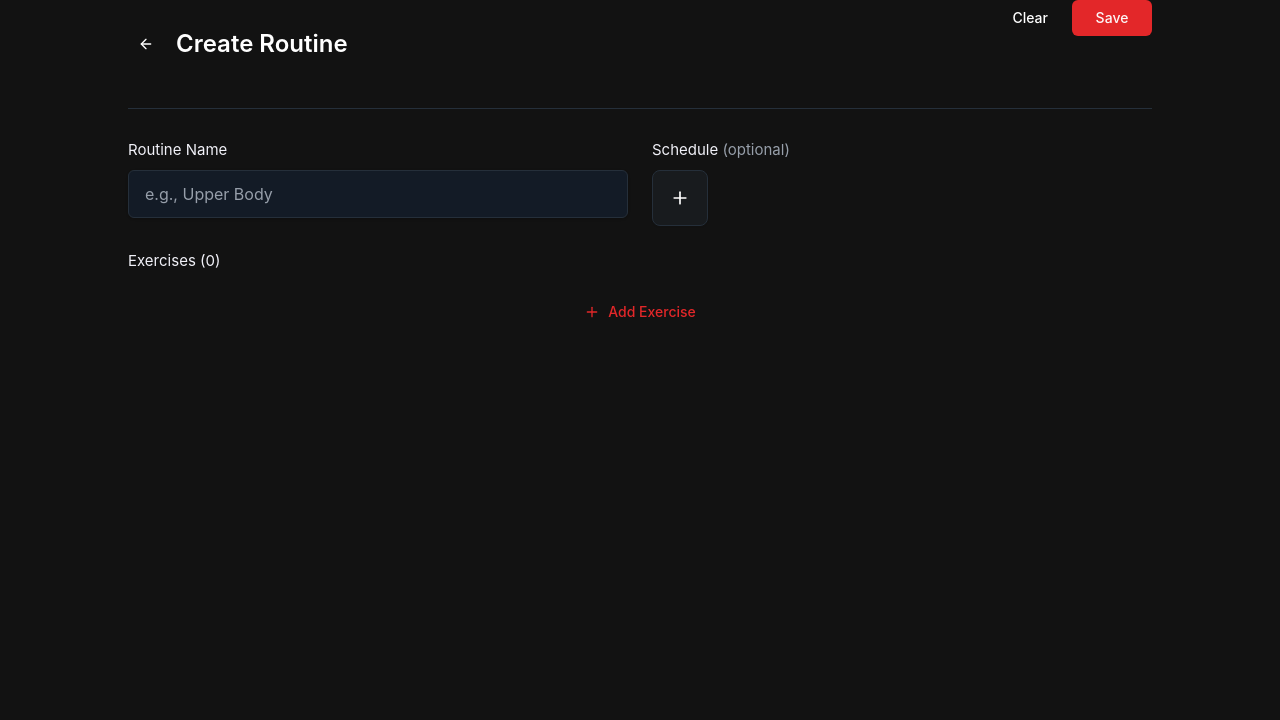
Test: allows a custom exercise name to be edited
Click the button "Add Exercise" at (640, 312), box [128,284,1152,340]
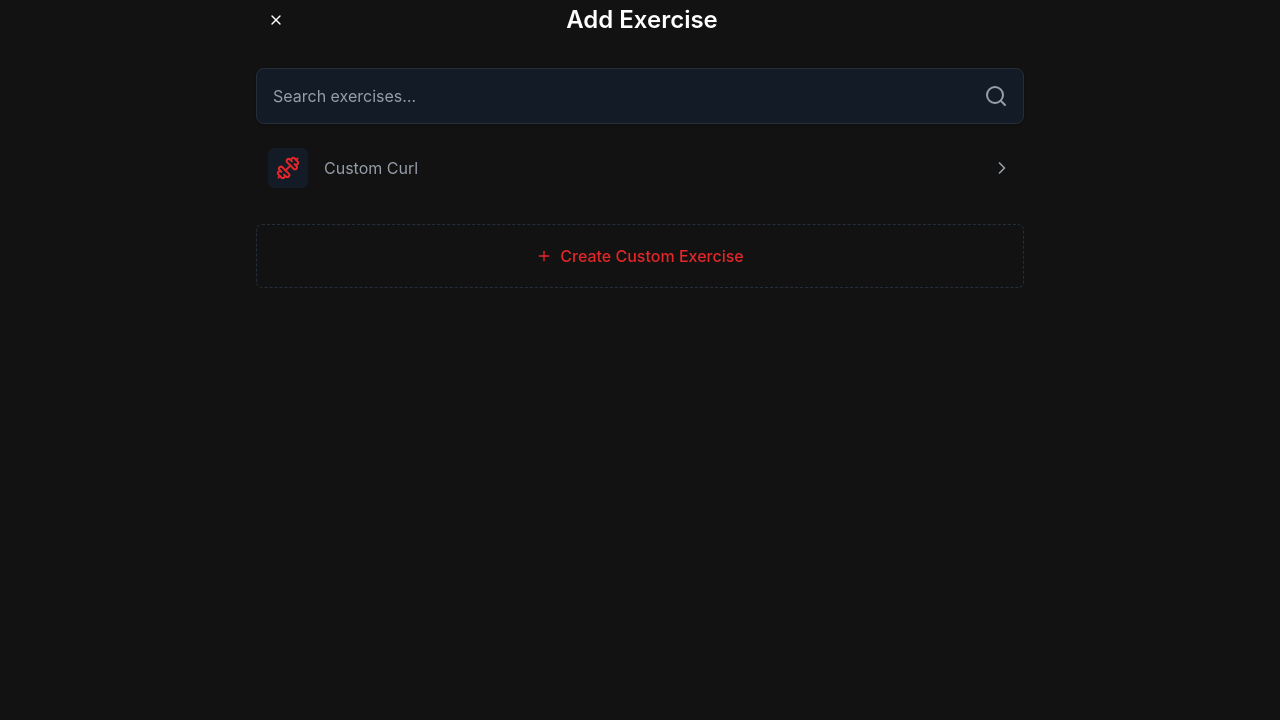
Click the link "Custom Curl" at (288, 168), box [256,140,1024,196]
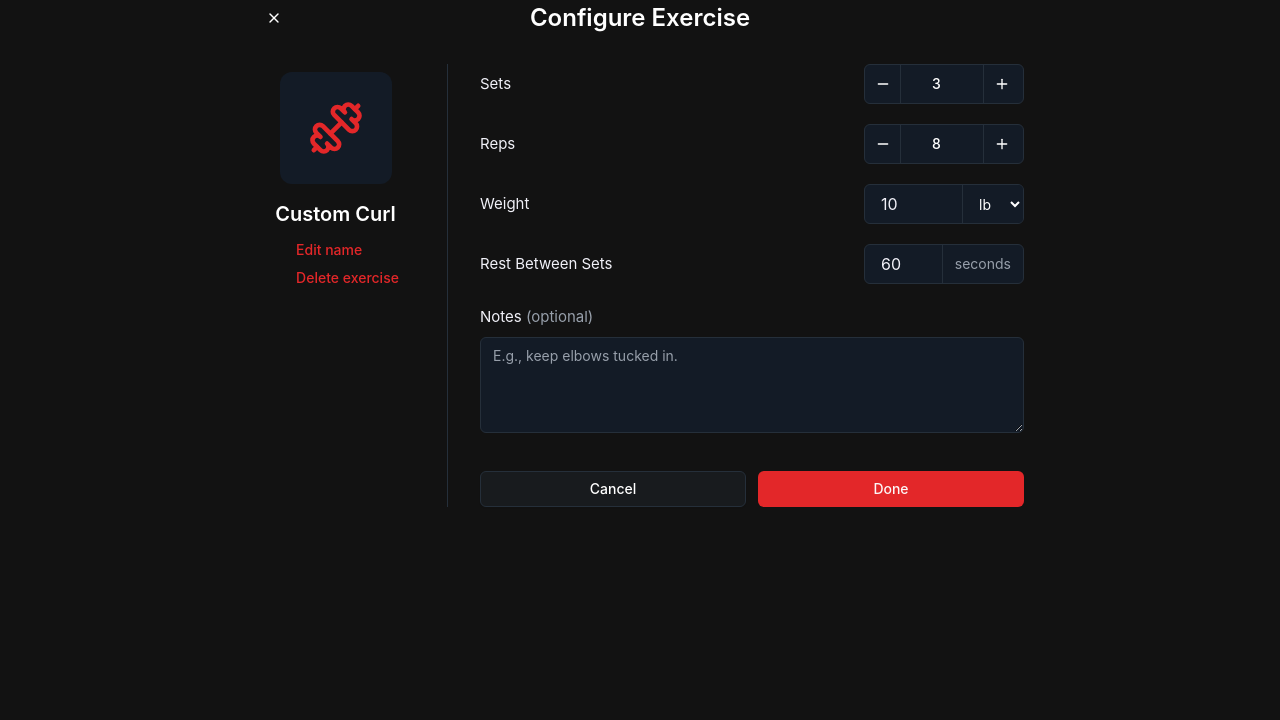
Click the button "Edit name" at (329, 250), box [296,240,362,260]
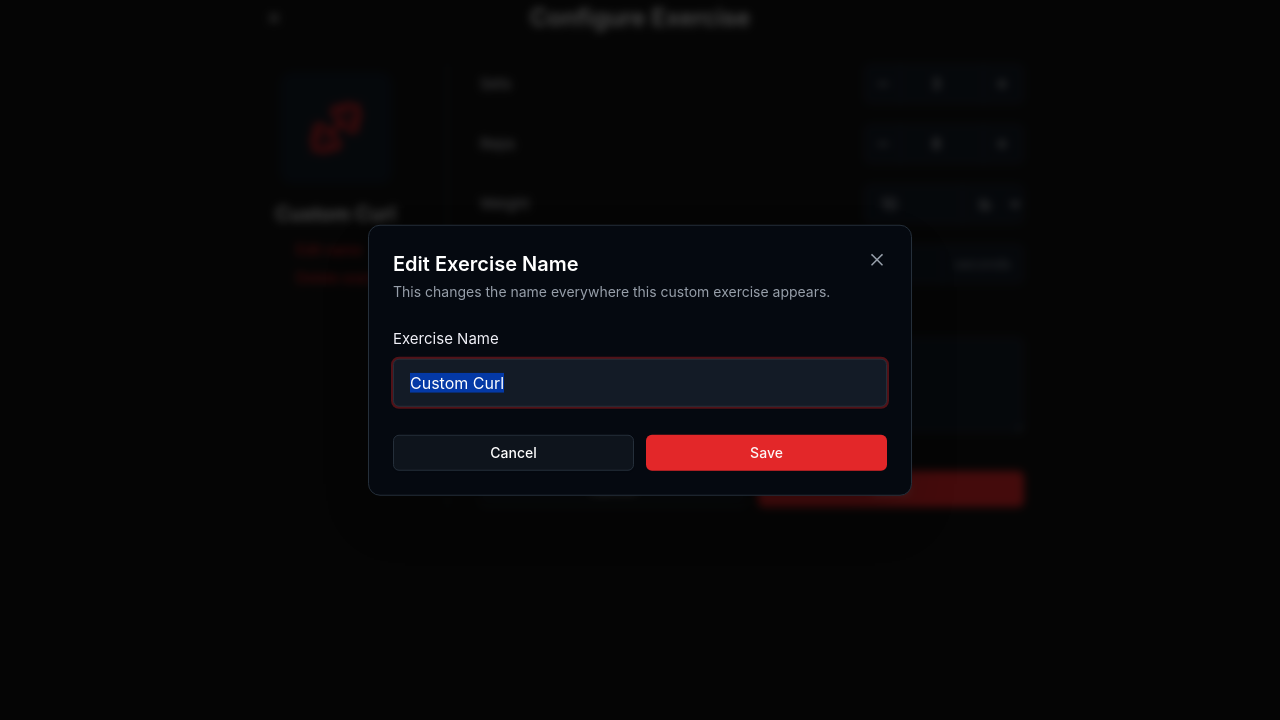
Replace the text in the field labelled "Exercise Name" with "Renamed Curl" at (640, 382), box [393,358,887,406]
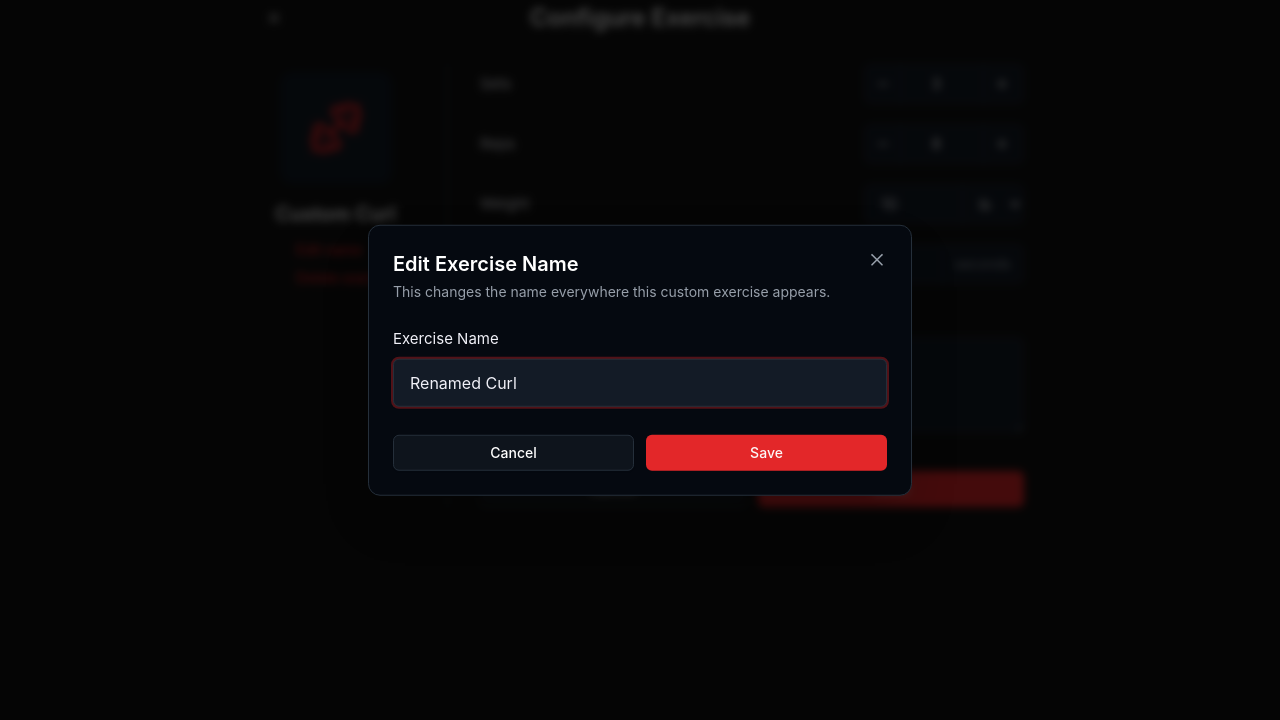
Click the button "Save" at (766, 452), box [646,434,887,470]
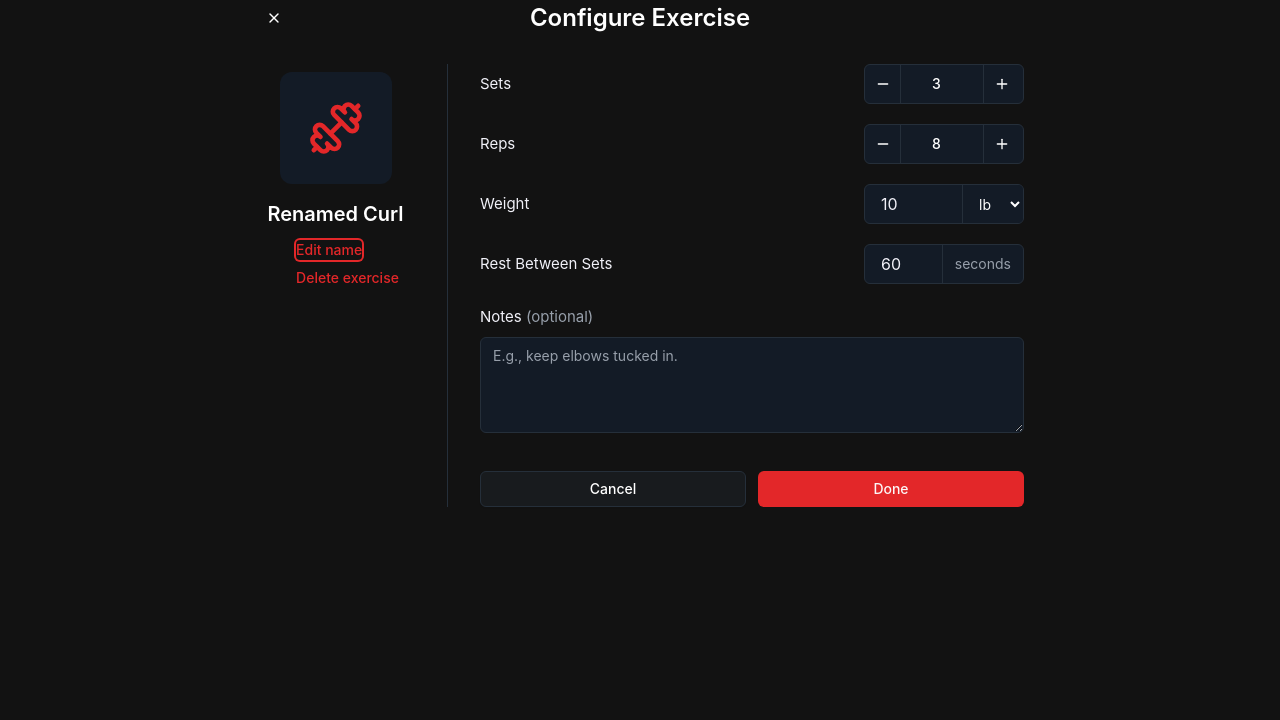
Now the heading "Configure Exercise" is shown, box [530,3,750,32]
Now the number field labelled "Sets" is shown, box [905,65,983,103]
Now the heading "Renamed Curl" is shown, box [267,200,404,228]
Click the button "Done" at (891, 488), box [758,470,1024,506]
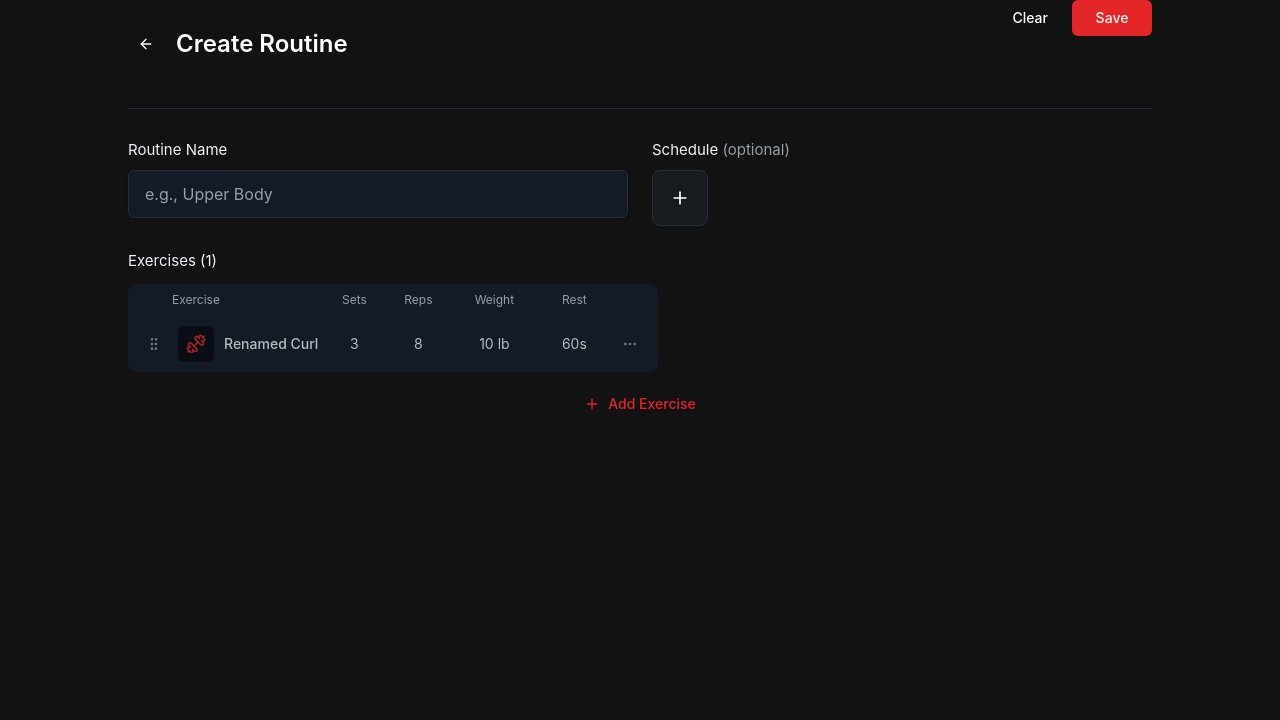
Now the text "Renamed Curl" is shown, box [224,334,318,354]
Now the heading "Exercises (1)" is shown, box [128,250,217,270]
